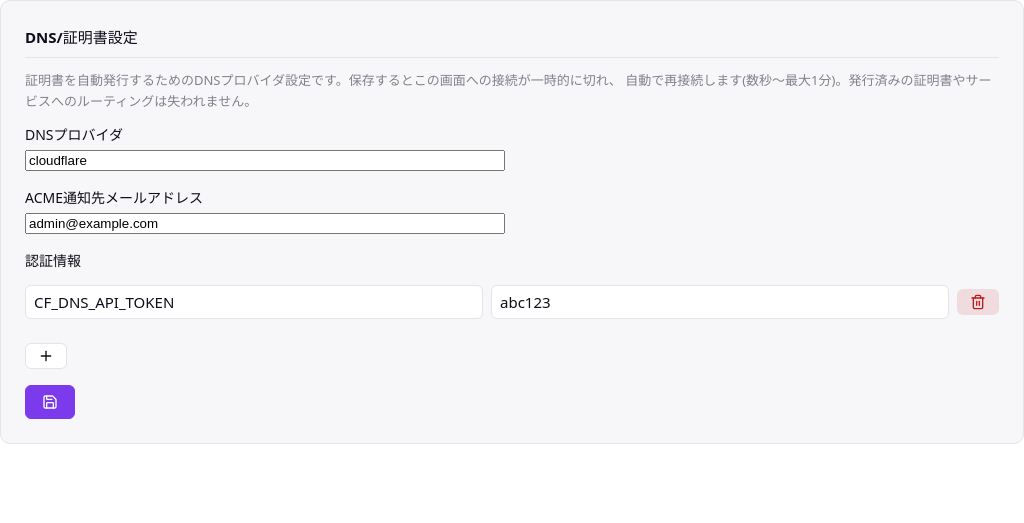
Scenario: DnsConfigSection › 再接続中は経過秒数を表示し、固まっていないことが分かるようにする
Expected: the field labelled "DNSプロバイダ" is shown, left=25, top=150, right=505, bottom=171
Click the button named "DNS設定を保存" at [50, 402], box left=25, top=385, right=75, bottom=419
Wait 4000 ms
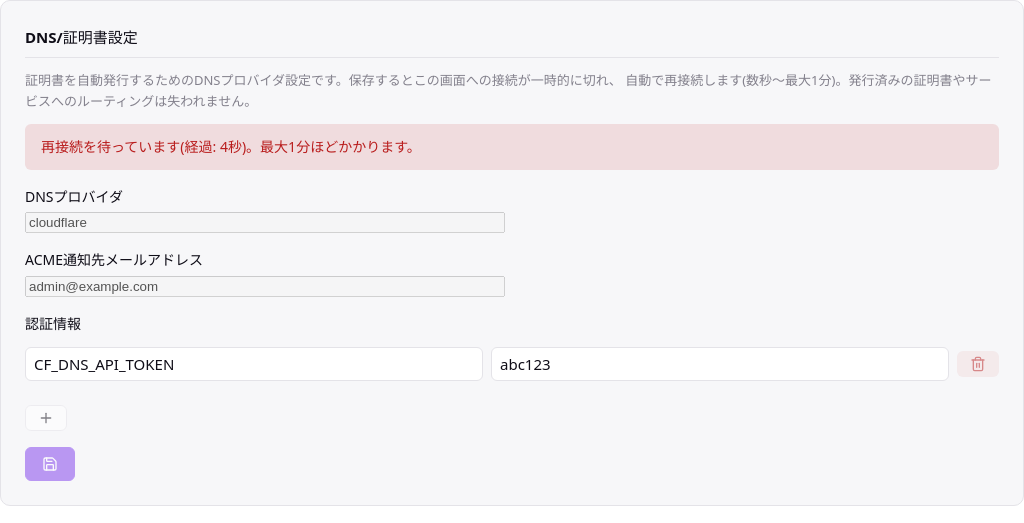
Expected: the text "再接続を待っています(経過: 4秒)。最大1分ほどかかります。" is shown, left=25, top=124, right=999, bottom=170
